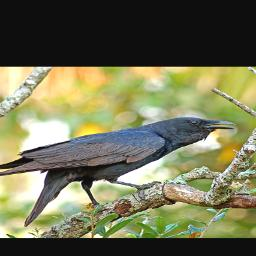Crow: (0, 117, 237, 228)
